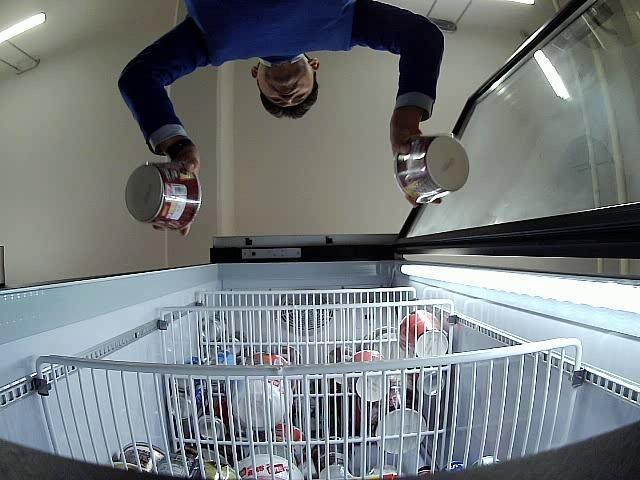05_nuguri_L: (126, 162, 202, 230), (394, 136, 469, 202)
